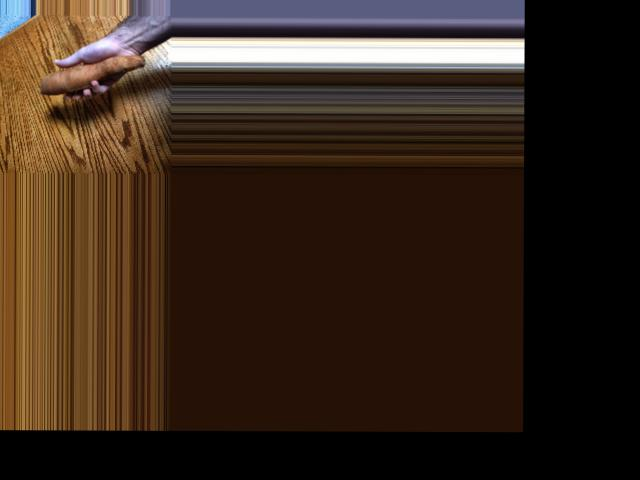sweet_potato: (39, 54, 156, 99)
